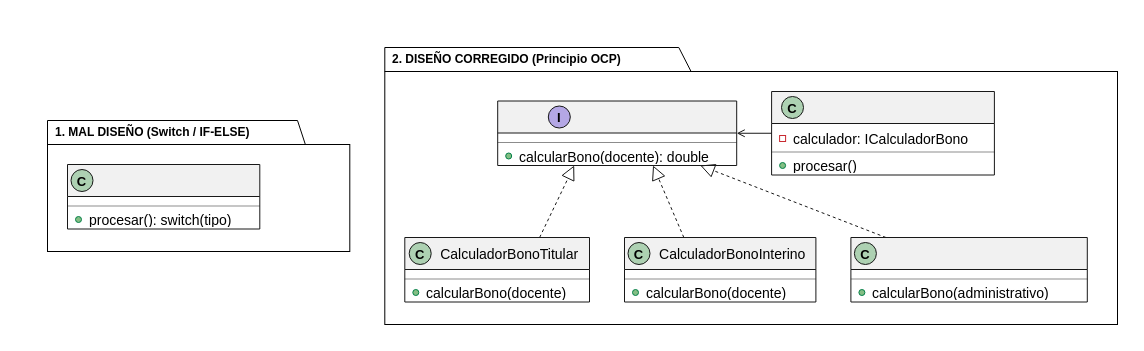
Image size: 1144x351. Some labels were removed from this diagram. Each missing label, with the box of its shape:
CalculadorBonoAdministrativo: (850, 236, 1087, 302)
ICalculadorBono: (497, 100, 737, 166)
ProcesadorPlanillaMalo: (66, 164, 260, 229)
ProcesadorPlanillaService: (771, 90, 994, 175)
